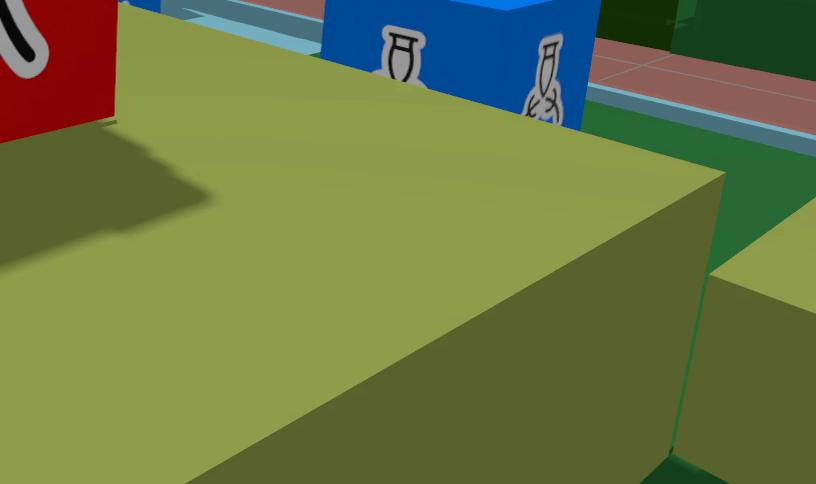KFS_FAKE: (0, 0, 117, 143), (0, 0, 48, 78)
KFS_REAL: (321, 0, 600, 129), (524, 34, 563, 122), (374, 25, 425, 86)
